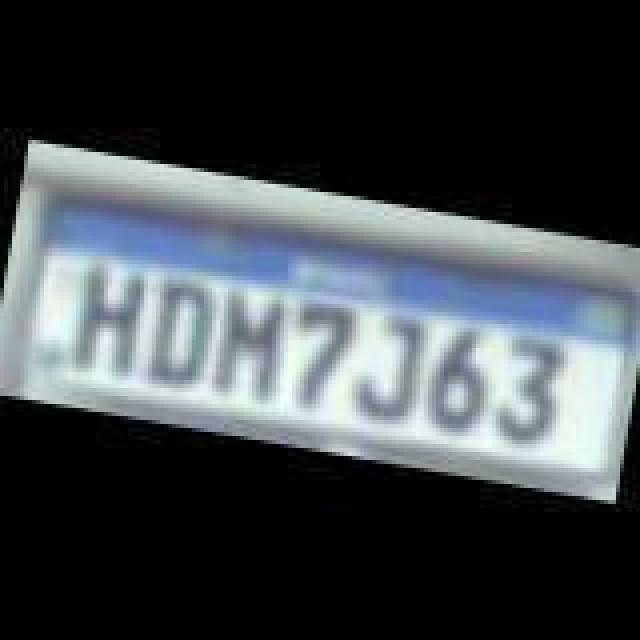3: (488, 336, 568, 448)
6: (412, 314, 500, 438)
7: (280, 294, 360, 410)
D: (144, 272, 224, 392)
H: (68, 262, 148, 378)
J: (342, 312, 426, 424)
M: (200, 282, 296, 406)
